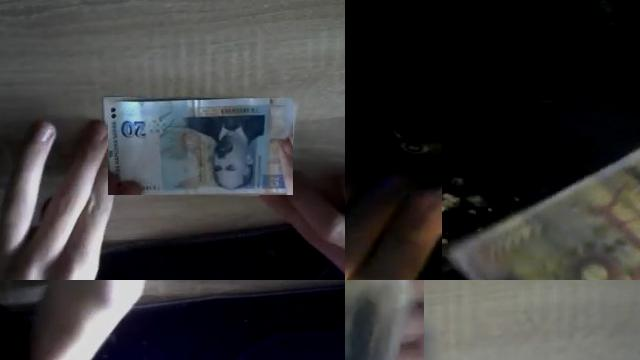10leva: (442, 147, 640, 280), (345, 280, 413, 360)
20leva: (108, 98, 293, 195)
